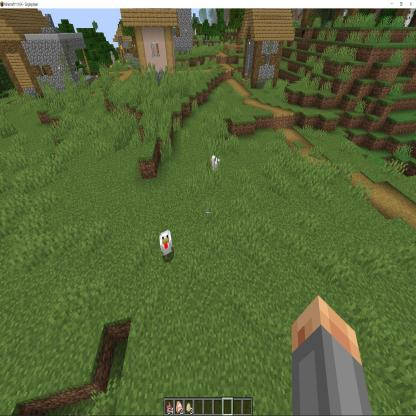minecraft-pigs: (158, 230, 174, 260), (210, 154, 222, 178)
